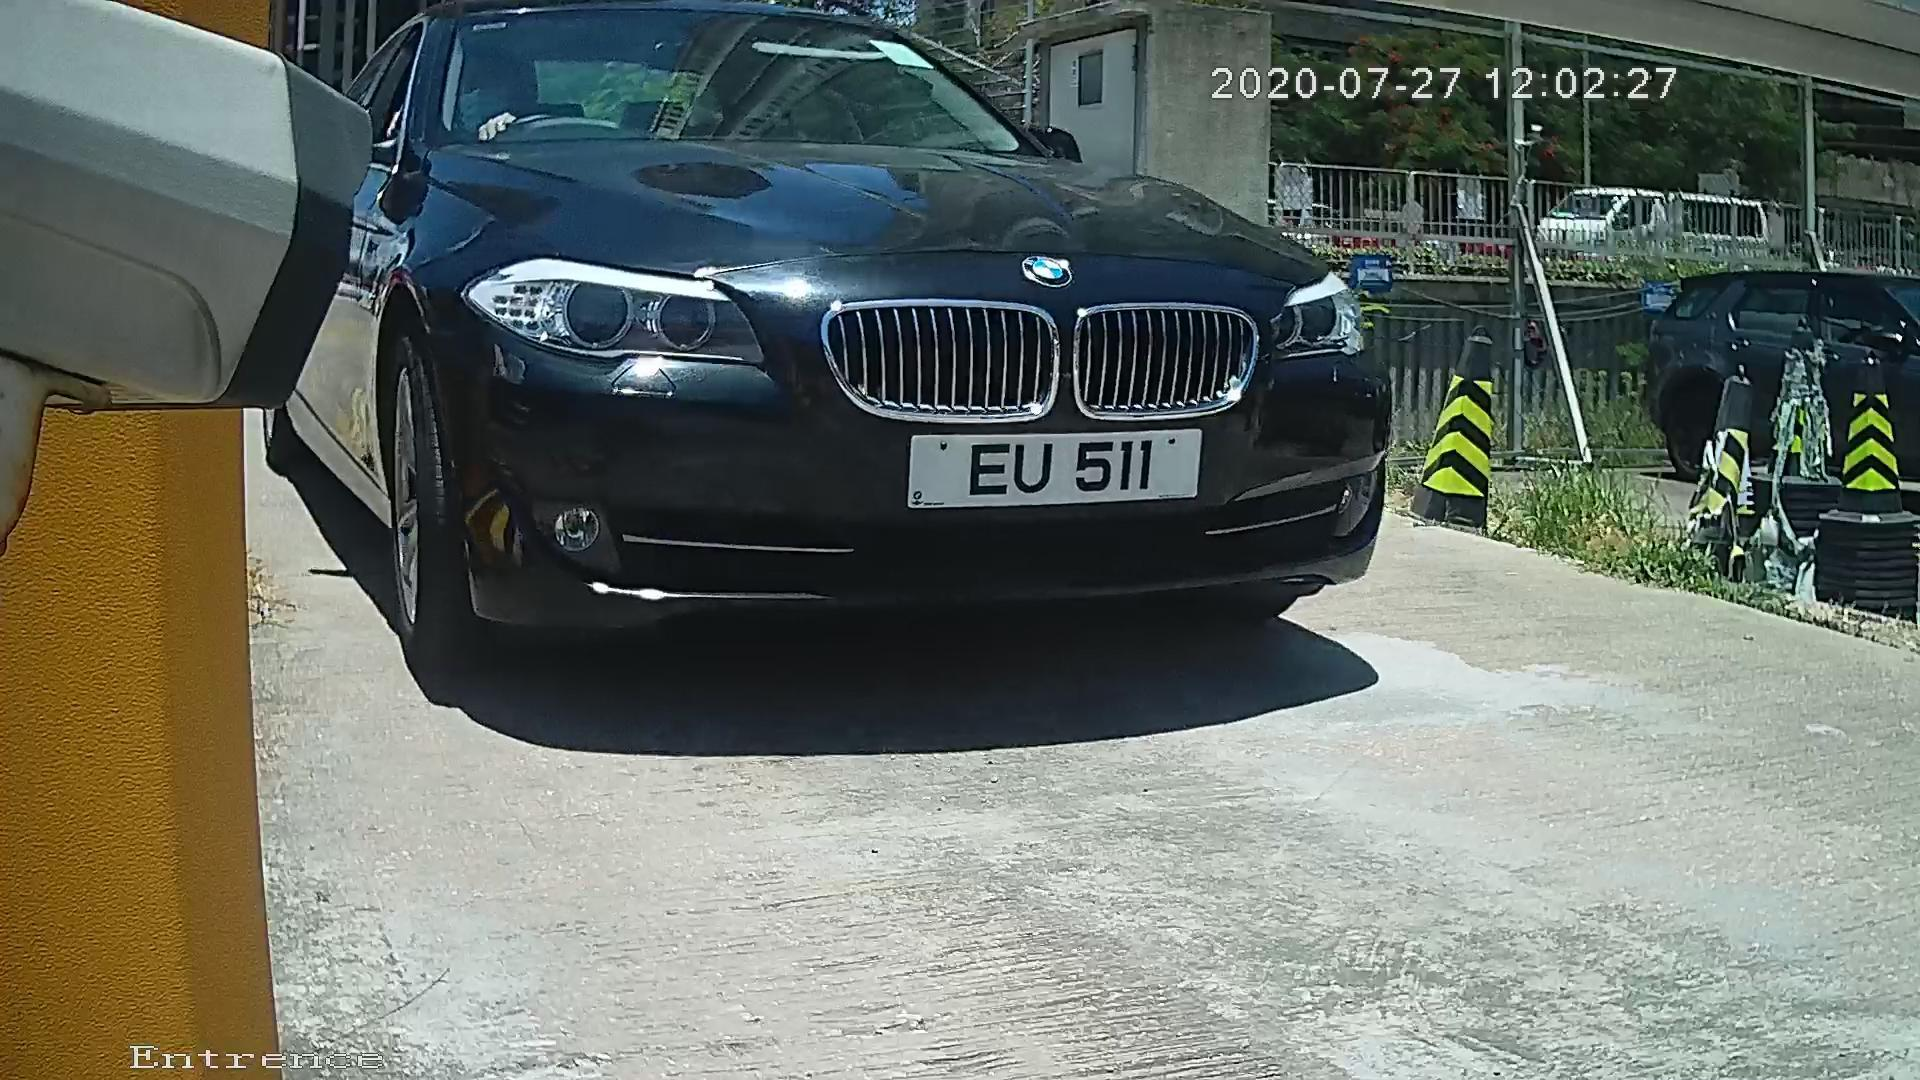Car: (172, 29, 1449, 719)
License Plate: (866, 415, 1209, 521)
